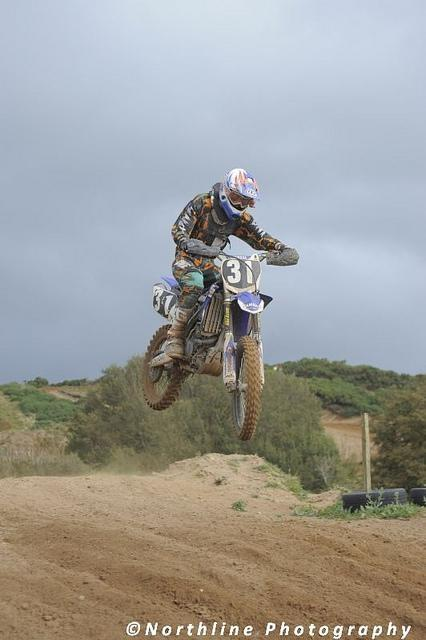motorcycle: (138, 256, 273, 440)
